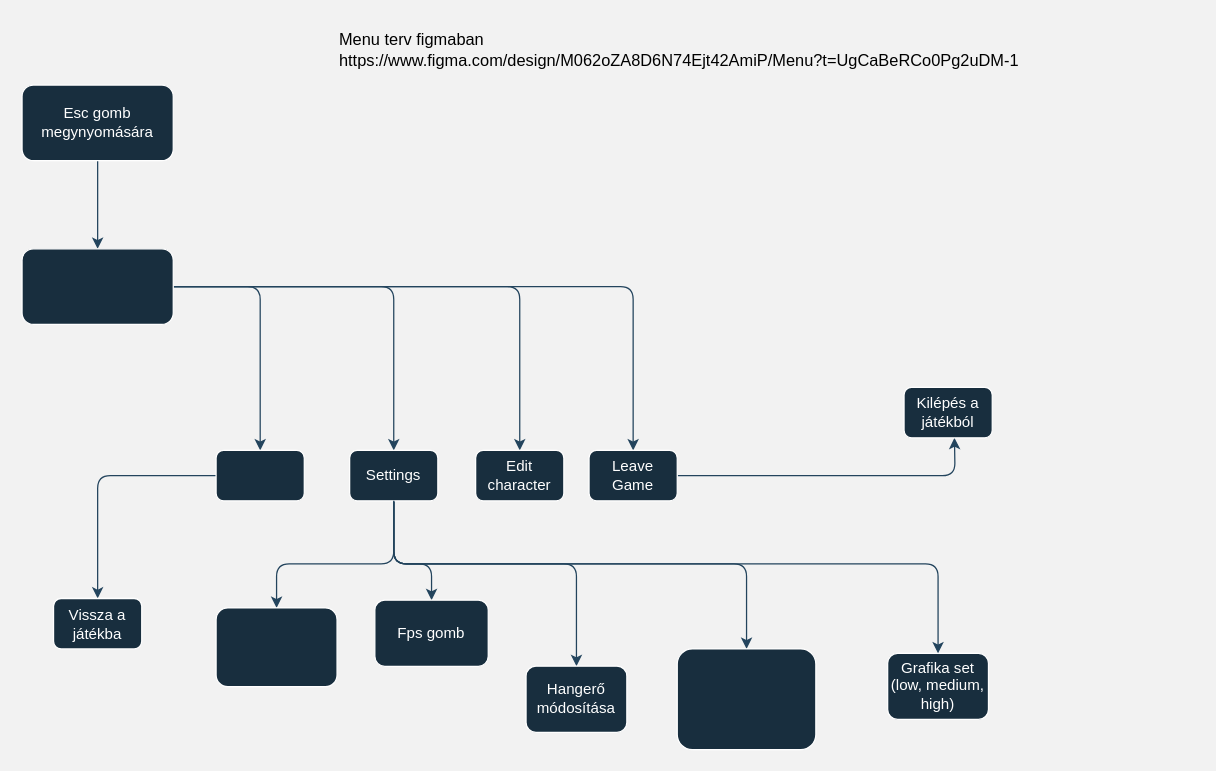
The diagram is 1216 pixels wide and 771 high, and some of its shapes have lost their labels. Each missing label, with the centre of its shape:
Menu megynilik a képernyő közepén (háttér elmosodik): pixel 97 286
Név megváltoztatása: pixel 276 647
Resume Game: pixel 259 475
Ugrás bindelése (2 opció bal click/ space): pixel 746 699
